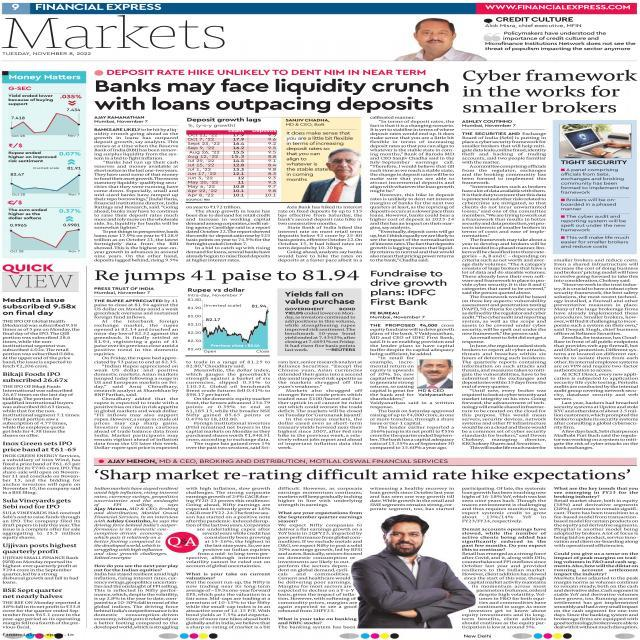Article: (92, 454, 640, 631), (89, 264, 461, 456), (459, 64, 640, 452), (95, 70, 459, 262), (3, 294, 85, 371), (2, 372, 82, 439), (0, 440, 80, 498), (0, 540, 84, 588), (0, 586, 83, 632), (0, 499, 83, 544)
Body: (460, 131, 547, 450), (552, 258, 640, 450), (92, 298, 180, 449), (369, 115, 456, 262), (552, 486, 640, 630), (461, 486, 548, 630), (93, 127, 180, 263), (277, 511, 363, 614), (185, 360, 272, 450), (277, 360, 364, 450), (92, 564, 180, 630), (186, 571, 272, 630), (276, 205, 364, 262), (185, 205, 272, 262), (1, 384, 82, 438), (369, 401, 456, 450), (2, 319, 82, 368), (93, 486, 180, 531), (186, 486, 272, 531), (1, 453, 82, 495), (284, 307, 356, 352), (368, 324, 456, 356), (1, 510, 82, 541), (2, 600, 82, 629), (368, 486, 456, 512), (1, 556, 81, 584), (368, 356, 416, 401), (560, 167, 632, 194), (277, 487, 364, 507), (200, 532, 272, 552), (93, 532, 164, 552), (185, 552, 272, 568), (276, 616, 358, 630), (560, 215, 627, 232), (560, 235, 630, 249), (560, 198, 618, 212), (94, 552, 168, 560)
Date: (2, 51, 93, 56)
Heading: (94, 78, 451, 114), (94, 468, 633, 483), (461, 69, 639, 114), (94, 268, 362, 284), (370, 269, 449, 306), (1, 296, 78, 318), (1, 440, 78, 452), (2, 542, 78, 554), (2, 498, 72, 510), (1, 371, 70, 383), (1, 587, 64, 600), (8, 74, 82, 82)
Highlights: (482, 15, 638, 52), (286, 146, 330, 182), (284, 290, 357, 306), (284, 130, 356, 146), (8, 151, 58, 163), (8, 94, 54, 106), (7, 208, 49, 220), (186, 118, 262, 124), (561, 159, 627, 165), (186, 286, 246, 292)
Image: (366, 514, 458, 628), (186, 130, 278, 197), (187, 297, 270, 353), (394, 17, 482, 61), (560, 125, 632, 158), (10, 166, 82, 197), (9, 222, 81, 253), (8, 108, 82, 138), (332, 147, 362, 202), (418, 360, 452, 388)
Name: (1, 15, 227, 50), (34, 2, 163, 12)
